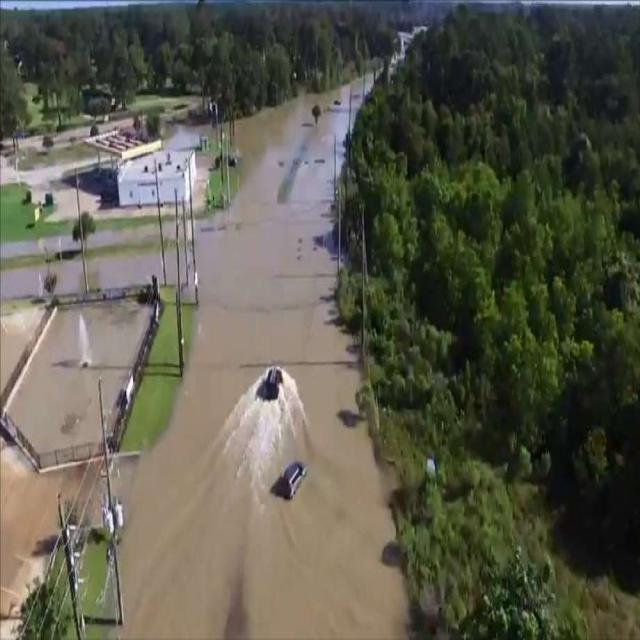flooded_areas: (15, 52, 438, 639)
